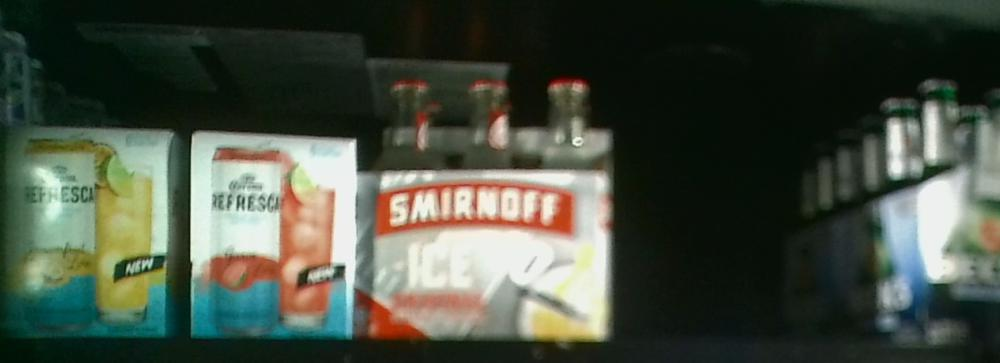bottle: (4, 126, 187, 337)
w: (362, 76, 608, 343), (786, 77, 1000, 341), (189, 129, 356, 341)
